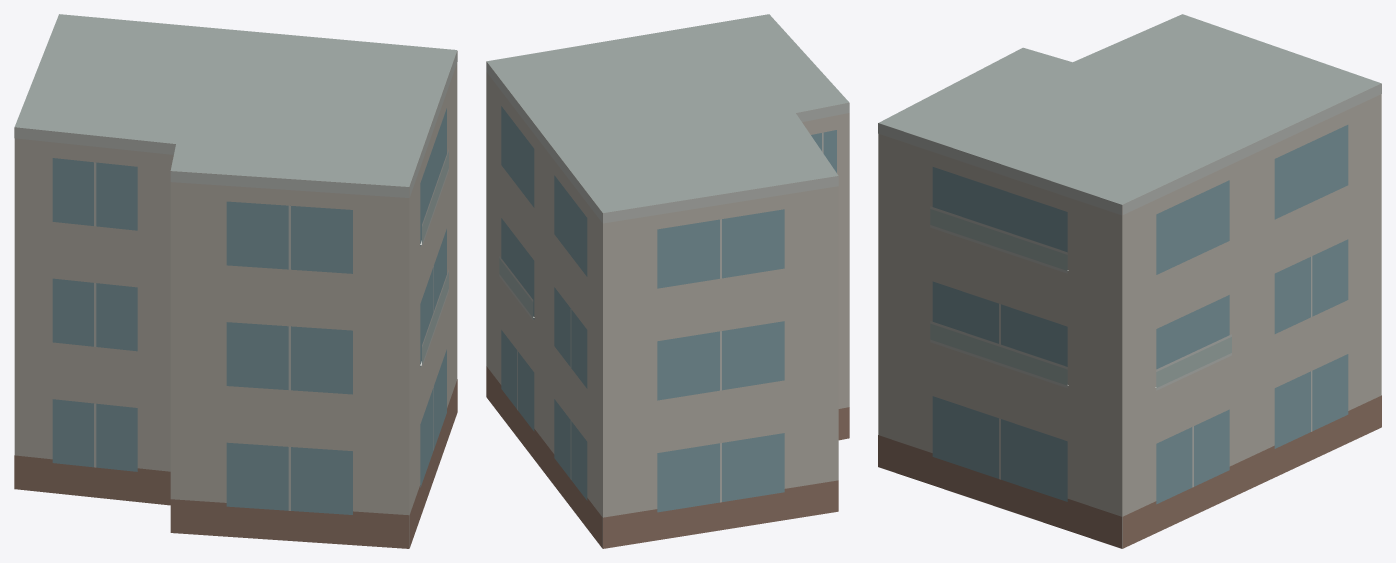
File: survey-upis-32533395.glb
3 views of the same model, side by side, from view 1: azimuth 30°, elevation 25°; view 2: azimuth 150°, elevation 25°; view 3: azimuth 270°, elevation 25° (orthographic). The views are drawn at different scales.
Visible parts, largest first — view 1: survey-upis-32533395.tmp; view 2: survey-upis-32533395.tmp; view 3: survey-upis-32533395.tmp.
Boxes of the visible parts, x1=… form: survey-upis-32533395.tmp: x1=14, y1=14, x2=457, y2=548; survey-upis-32533395.tmp: x1=486, y1=14, x2=849, y2=548; survey-upis-32533395.tmp: x1=878, y1=14, x2=1381, y2=548.
Bounding box in the file's own units: 9.47 × 7.95 × 10.55.
